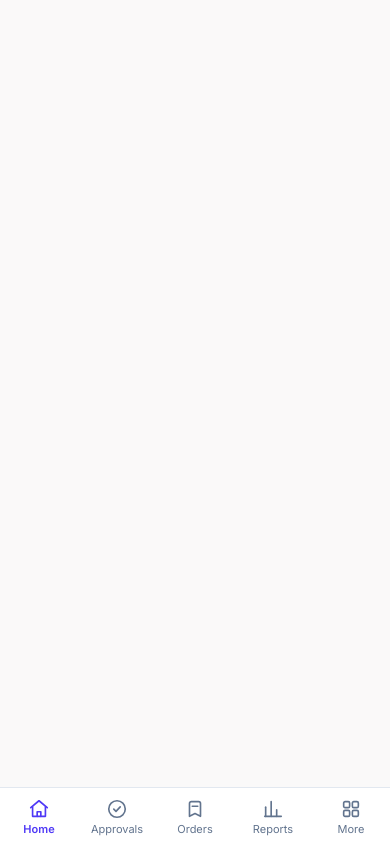
the sheet › closes when the route changes
The image size is (390, 844).
Click the button with aria-label "all screens" at (351, 816), box [312,788,389,843]
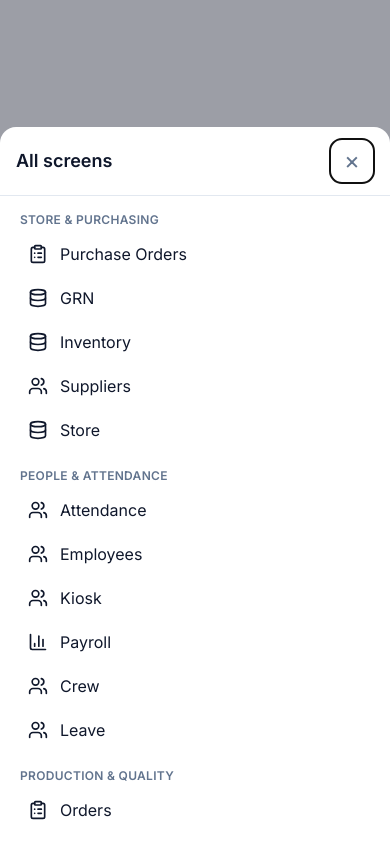
Expected: the dialog is shown
